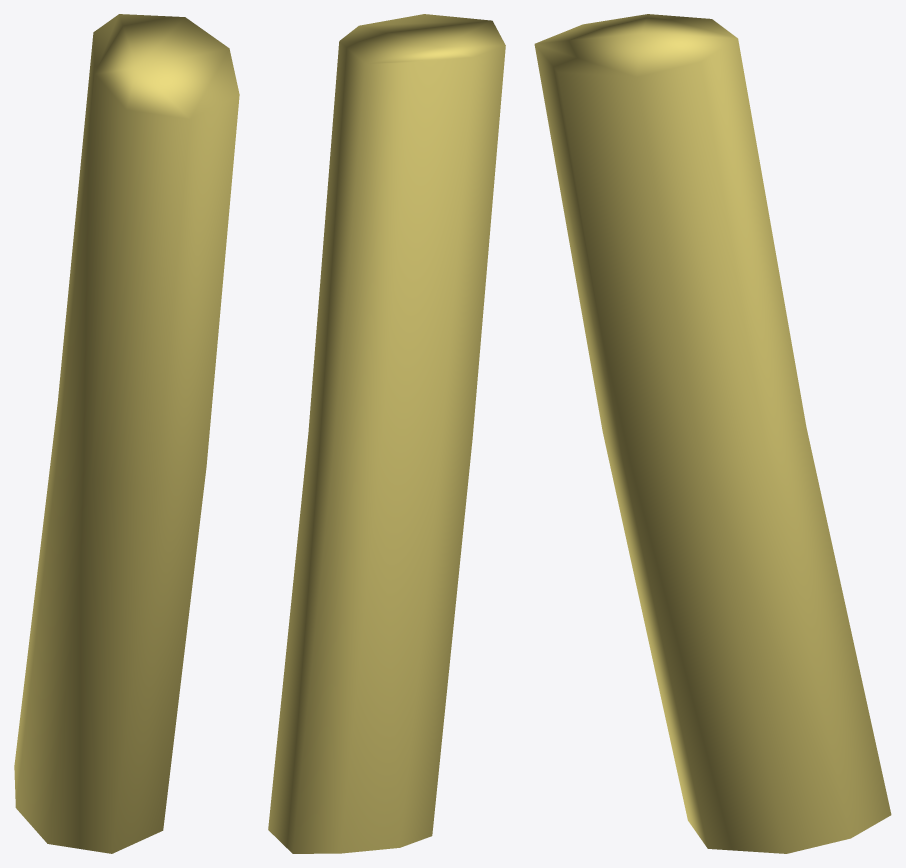
File: nucleus-of-oculomotor-nerve-l.glb
3 renders of one model, left to right at view 1: azimuth 30°, elevation 25°; view 2: azimuth 150°, elevation 25°; view 3: azimuth 270°, elevation 25°, orthographic. The views are drawn at different scales.
Parts seen in each view (by area): view 1: Nucleus of oculomotor nerve.l; view 2: Nucleus of oculomotor nerve.l; view 3: Nucleus of oculomotor nerve.l.
Boxes of the visible parts, x1,y1,x2,y2 form: Nucleus of oculomotor nerve.l: (14,14,239,853); Nucleus of oculomotor nerve.l: (268,14,505,853); Nucleus of oculomotor nerve.l: (534,14,891,853).
Bounding box in the file's own units: 0.00142 × 0.00846 × 0.00343.
